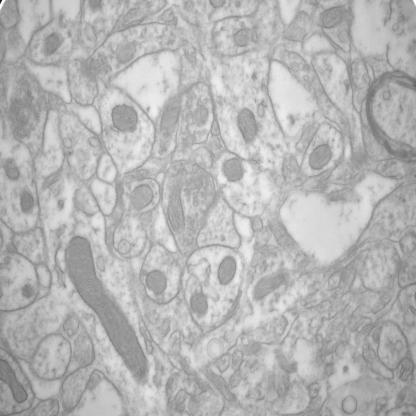mitochondria: (64, 233, 149, 384), (0, 355, 30, 405), (251, 272, 287, 304), (235, 104, 258, 146), (317, 2, 348, 33), (109, 102, 139, 134), (128, 181, 156, 213), (215, 251, 238, 289), (143, 266, 169, 298), (307, 140, 333, 172), (221, 155, 246, 187), (190, 289, 210, 321), (2, 154, 22, 186), (18, 187, 36, 216)
